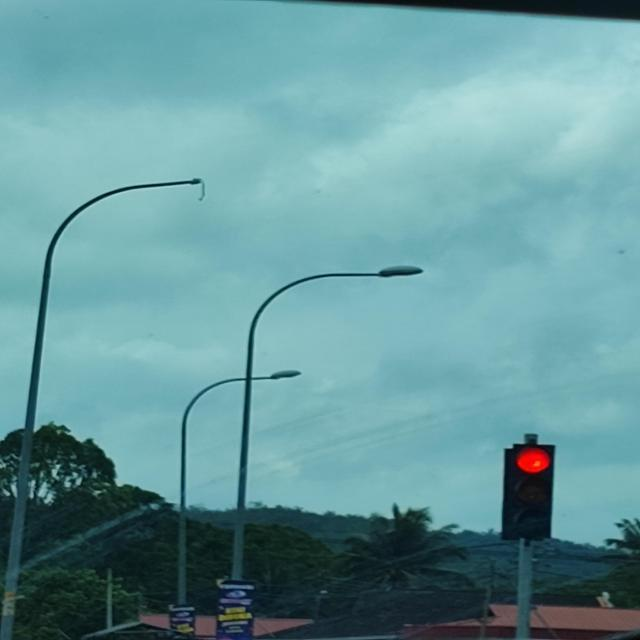red_light: (506, 444, 556, 538)
